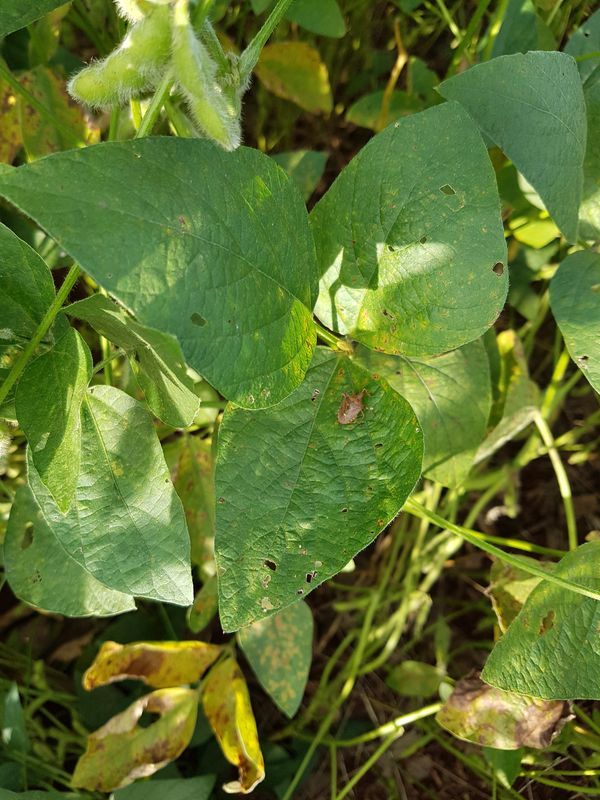Euschistus_heros_adulto: (328, 385, 376, 431)
